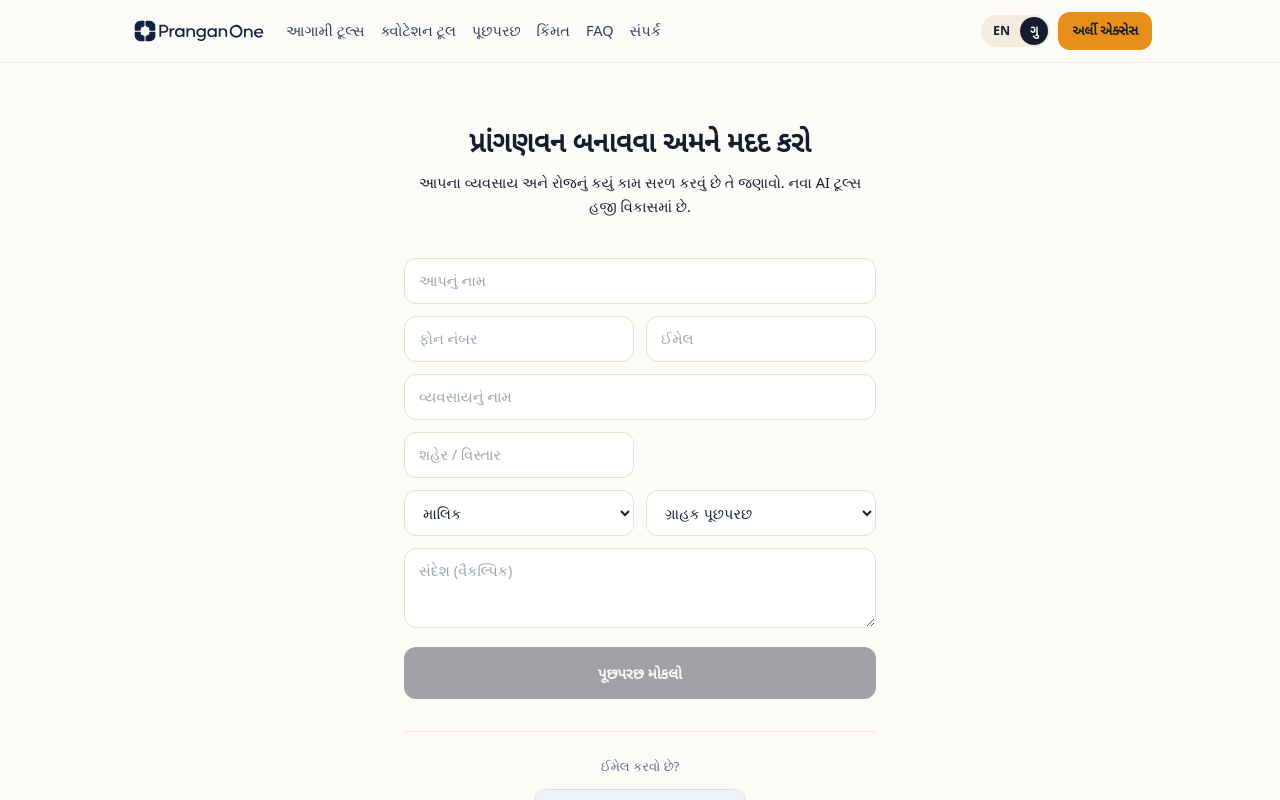
Test: Contact reports the silent Supabase lead-write failure without breaking the user › shows a concise Gujarati failure message when the primary contact path fails
The image size is (1280, 800).
In the field with id "contact-name": [640, 281] box x1=404 y1=258 x2=876 y2=304, type "Test Person"
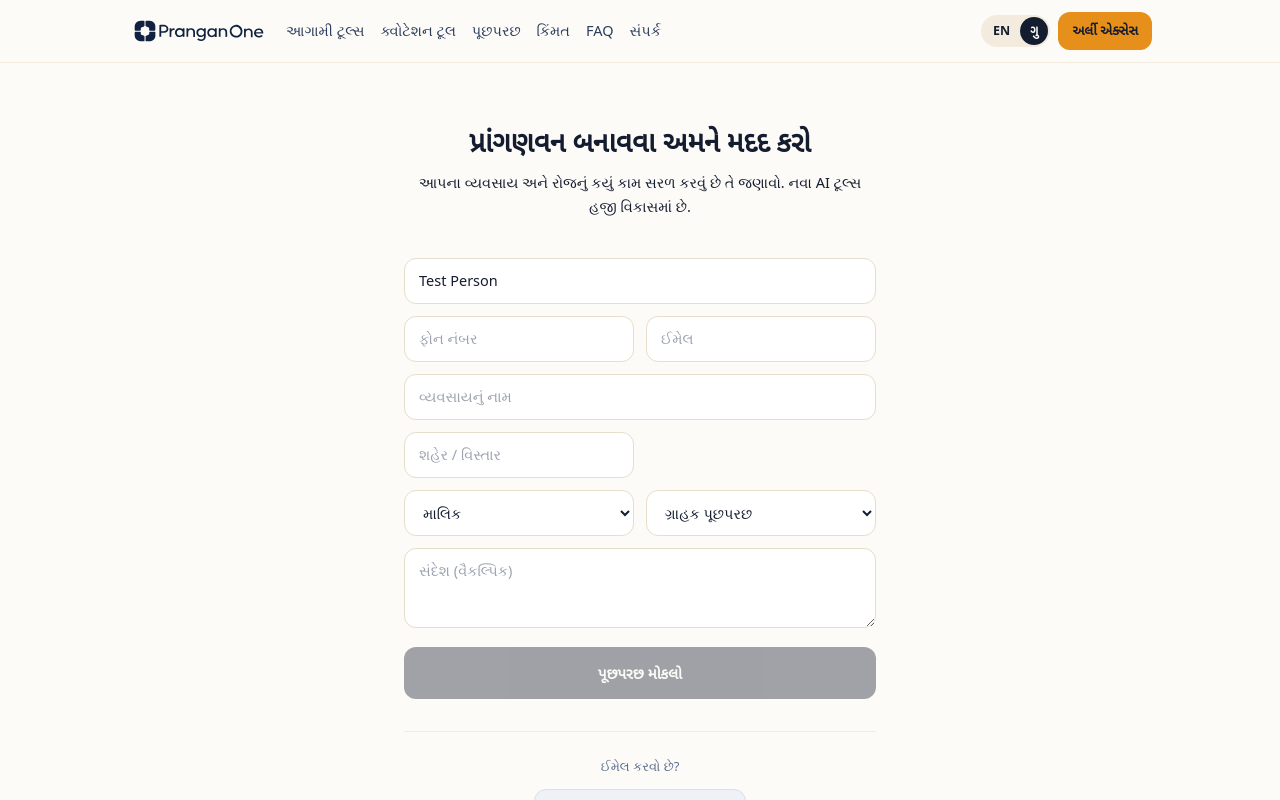
In the field with id "contact-phone": [519, 339] box x1=404 y1=316 x2=634 y2=362, type "9000000000"
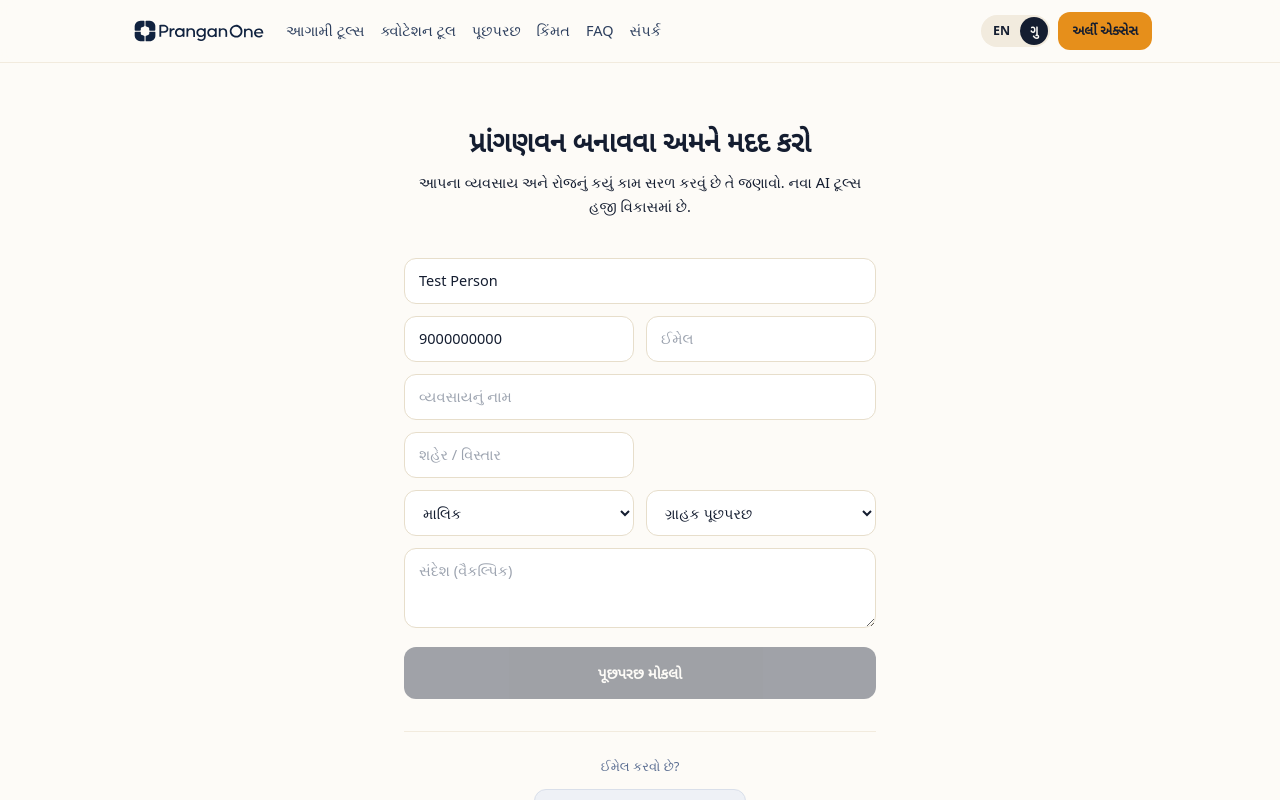
In the field with id "contact-email": [761, 339] box x1=646 y1=316 x2=876 y2=362, type "test@example.com"
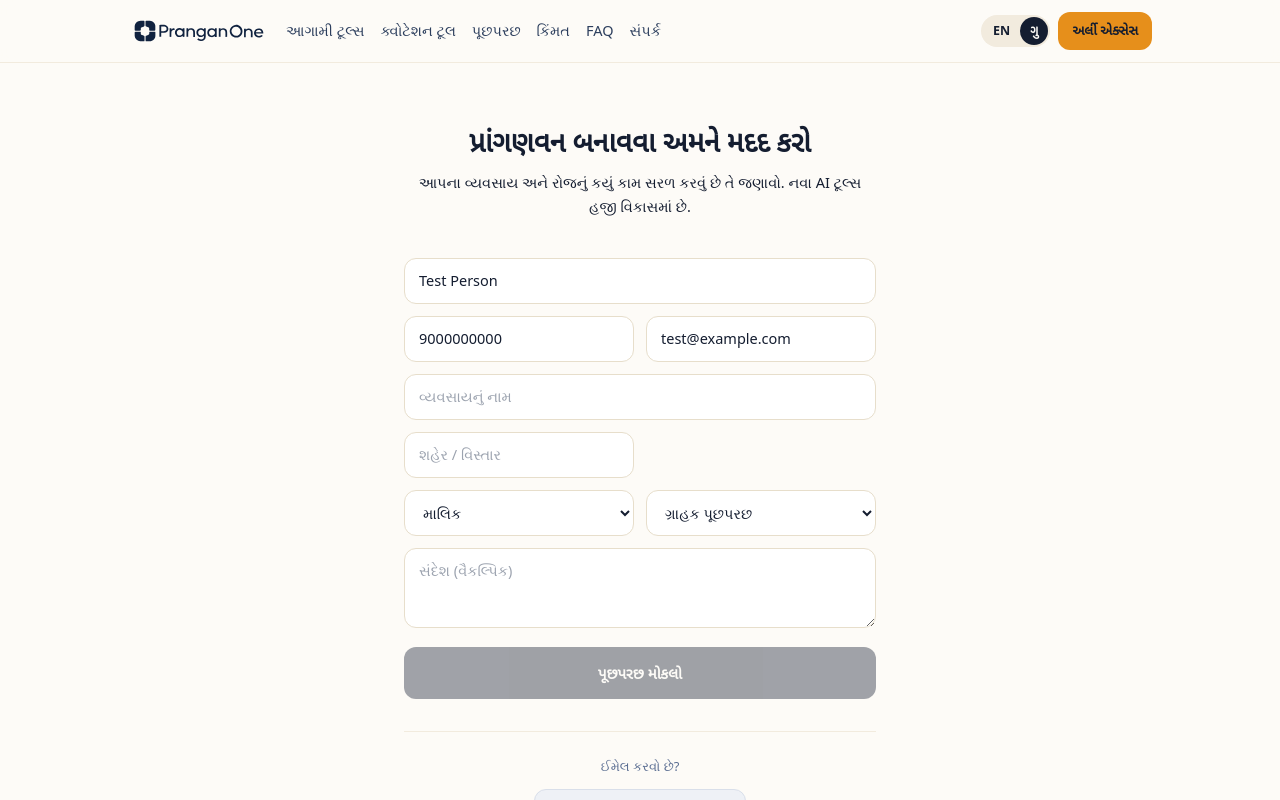
In the field with id "contact-society": [640, 397] box x1=404 y1=374 x2=876 y2=420, type "Test Society"
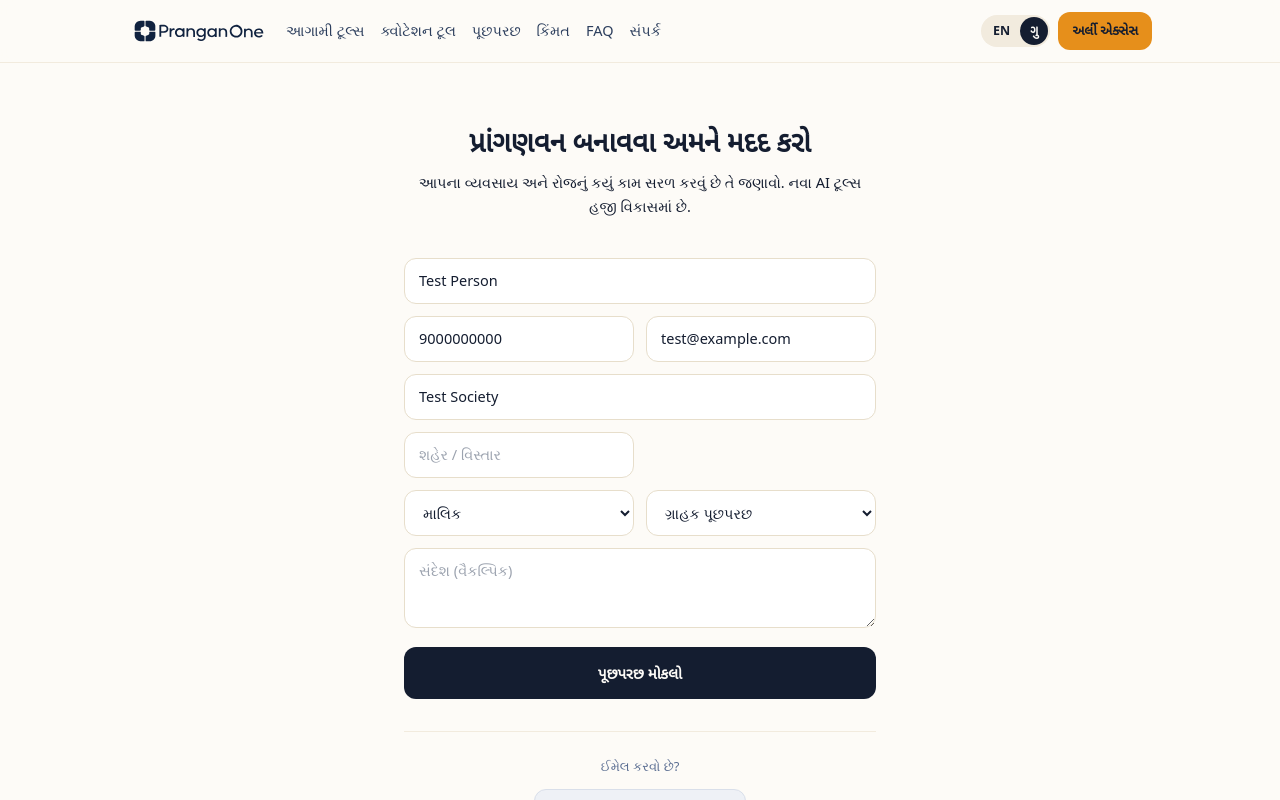
Submit the form, box x1=404 y1=246 x2=876 y2=699
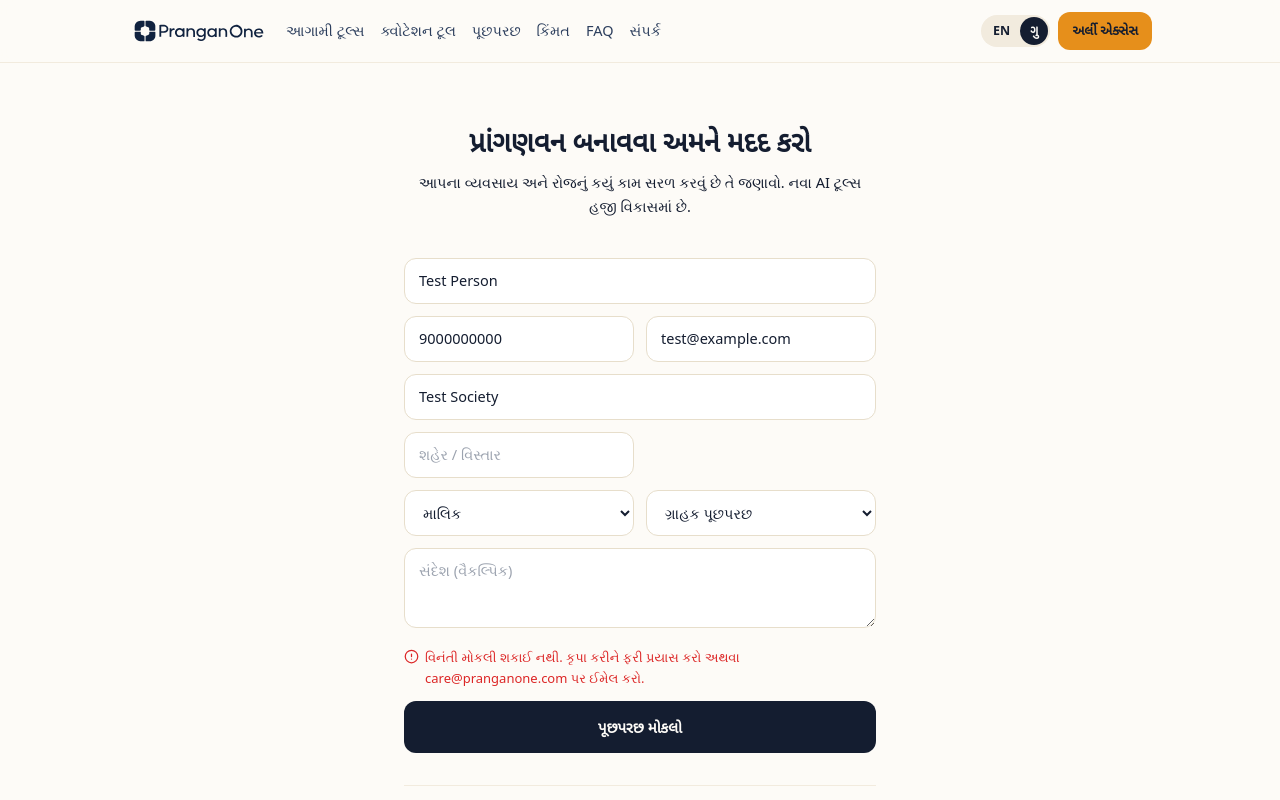
Now the text "વિનંતી મોકલી શકાઈ નથી" is shown, box x1=425 y1=648 x2=740 y2=687
